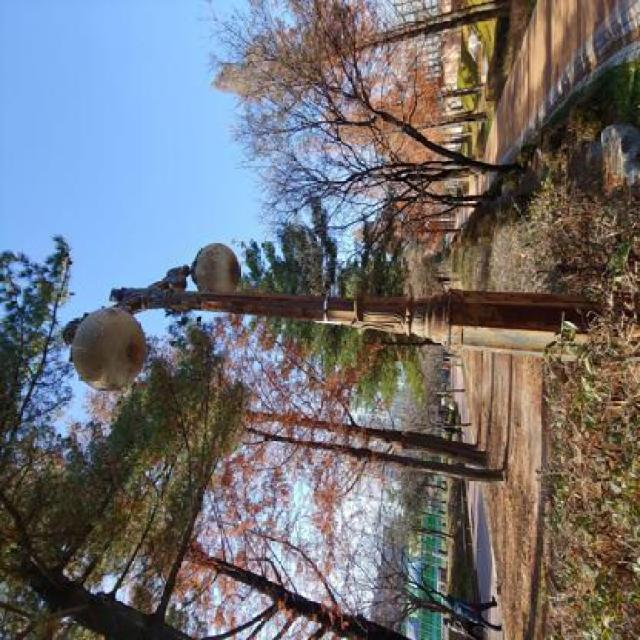pole: (172, 283, 596, 365)
